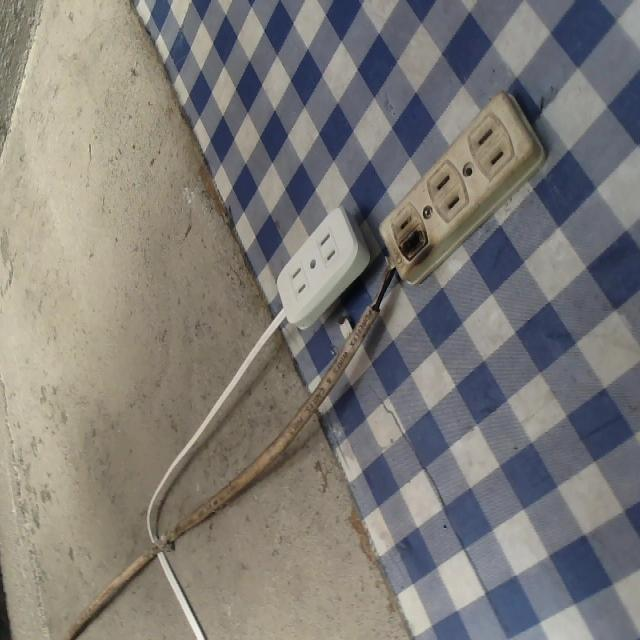-: (396, 220, 429, 265)
